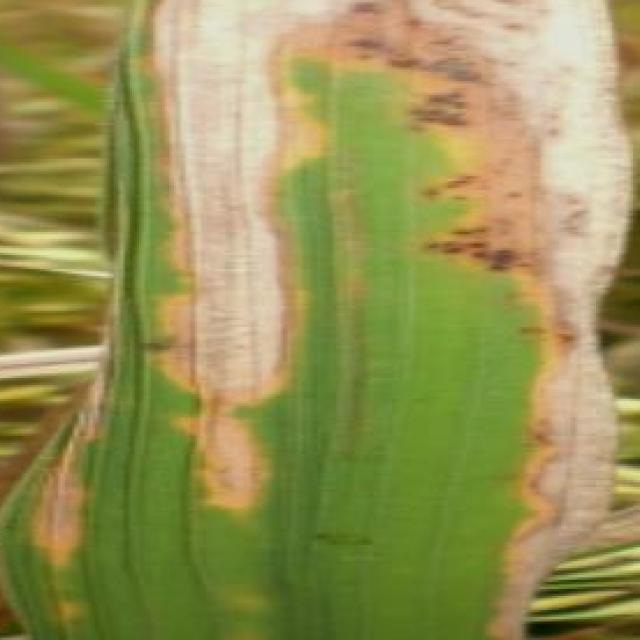Bacterial_Leaf_Blight: (68, 0, 578, 638)
